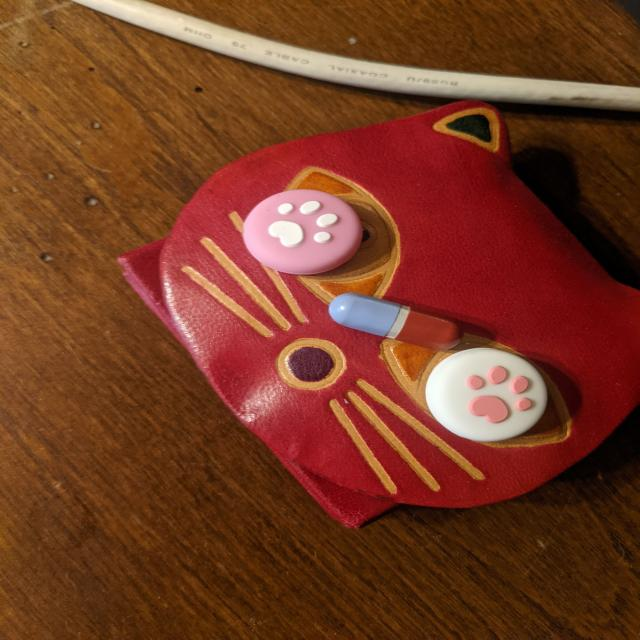non-organic waste: (327, 291, 464, 352)
